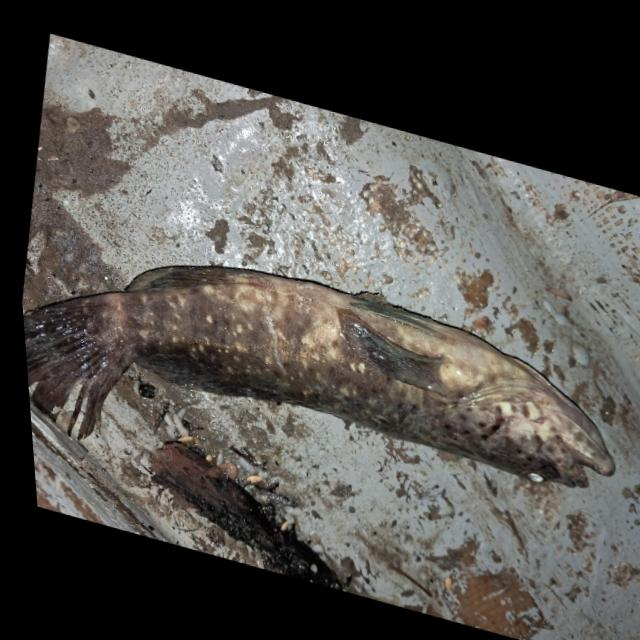Groupers: (15, 199, 640, 584)
